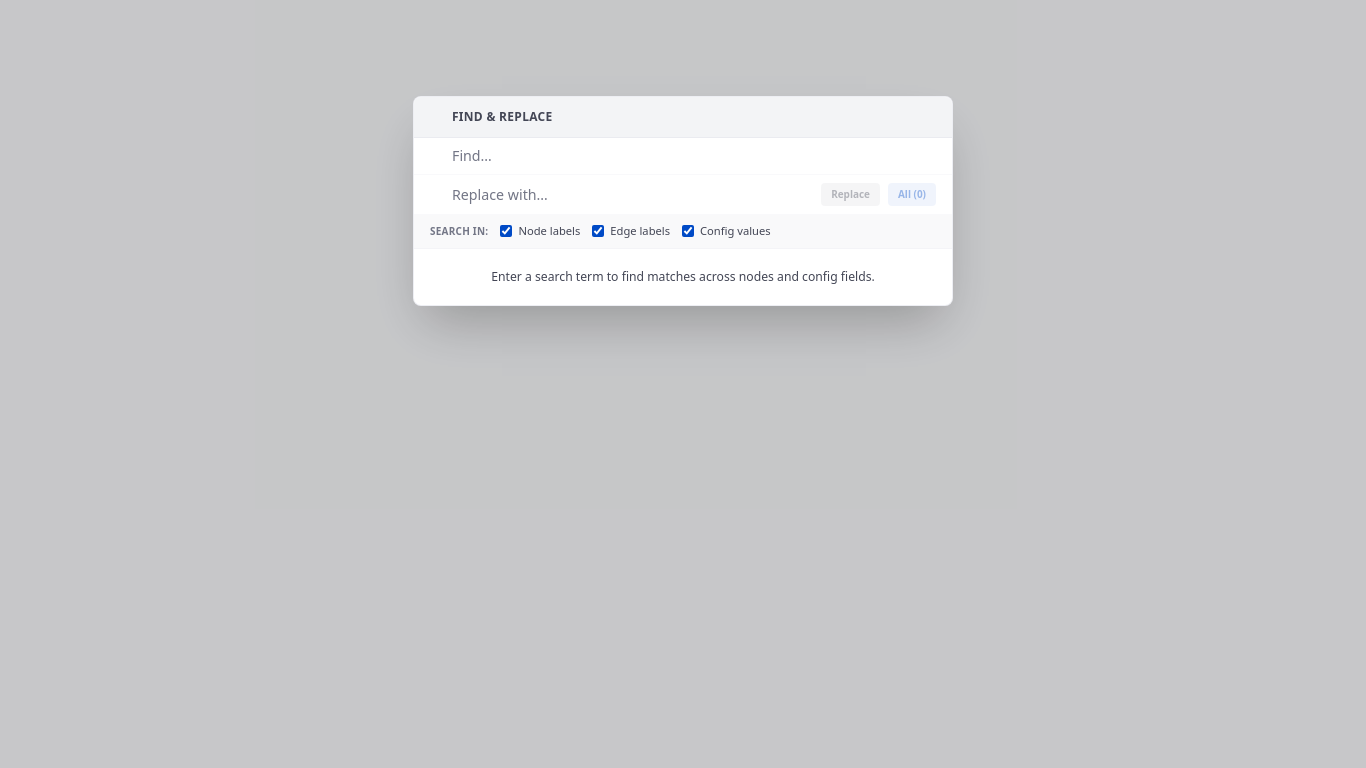
FindReplaceOverlay › togglingNodeLabelsScope_excludesNodeMatches
Type "Foo" into the field with placeholder "Find…" at (694, 156), box [452,146,936,166]
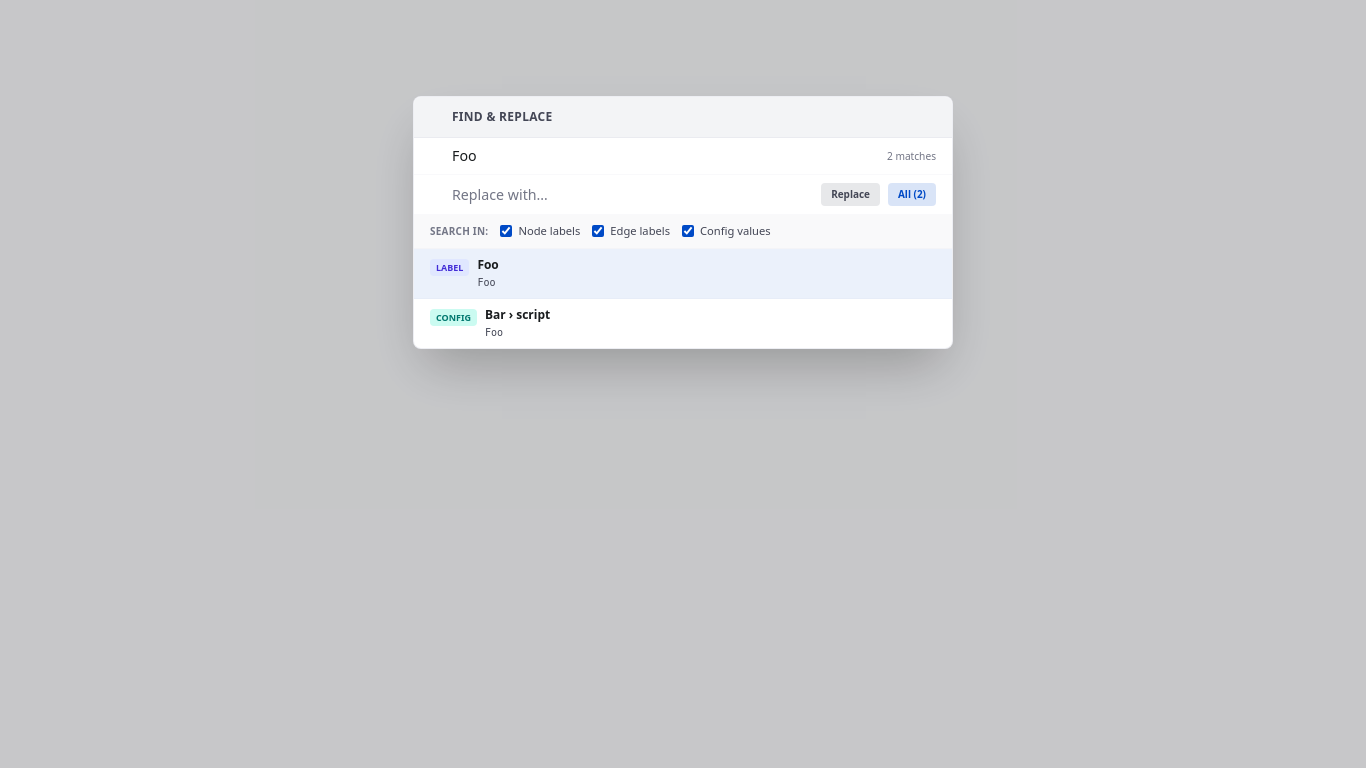
Now the text "2 matches" is shown, box [887,148,936,164]
# Uncheck node labels
Click the checkbox labelled "Node labels" at (506, 231), box [500,225,512,237]
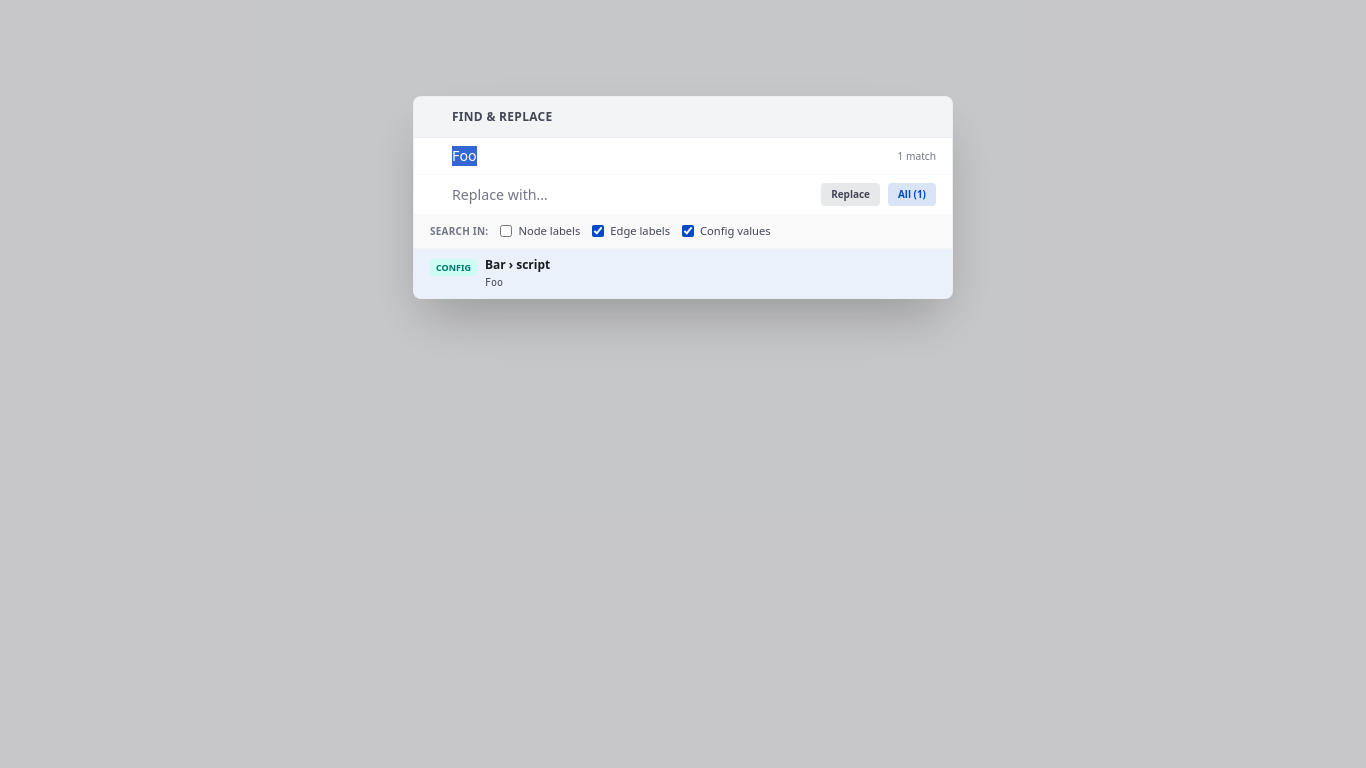
Now the text "1 match" is shown, box [898,148,936,164]
